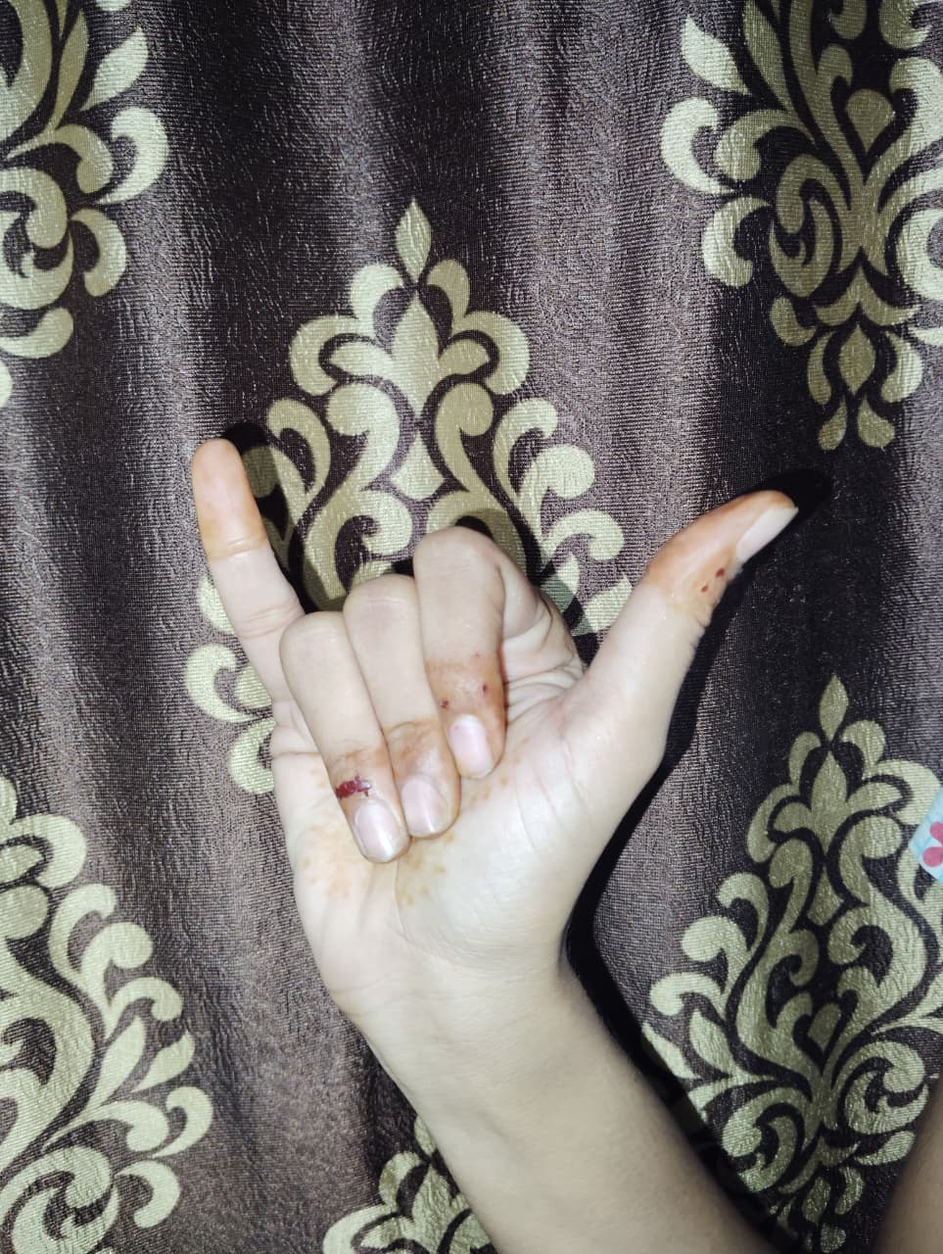Y: (186, 440, 800, 939)
